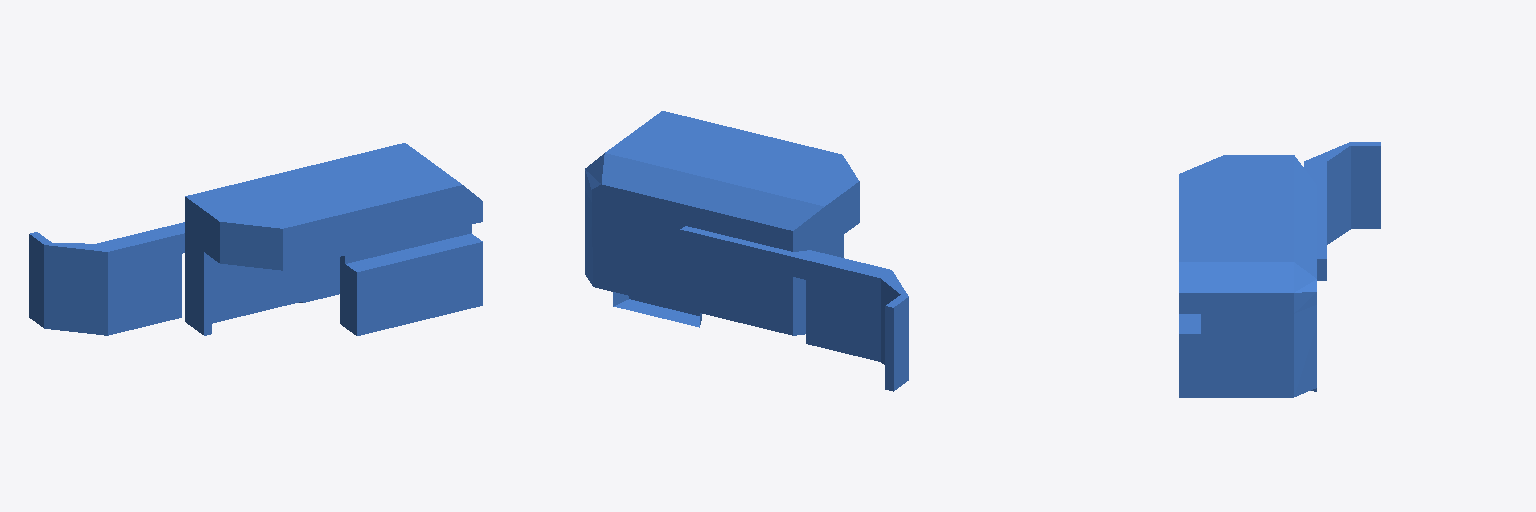
File: CrateHiTech_3.obj
The picture shows the model from 3 angles: view 1: azimuth 30°, elevation 25°; view 2: azimuth 150°, elevation 25°; view 3: azimuth 270°, elevation 25°; orthographic projection.
Parts seen in each view (by area): view 1: Box001, Object002, Object003; view 2: Box001, Object002, Object001; view 3: Box001, Object002.
Boxes of the visible parts, x1,y1,x2,y2 form: Box001: [185, 143, 482, 335]; Object002: [29, 222, 184, 335]; Object003: [189, 241, 339, 335]; Box001: [585, 111, 859, 335]; Object002: [680, 226, 908, 391]; Object001: [613, 292, 701, 327]; Box001: [1179, 155, 1316, 397]; Object002: [1304, 142, 1380, 280].
Bounding box in the file's own units: 4.4 × 1.67 × 2.2.